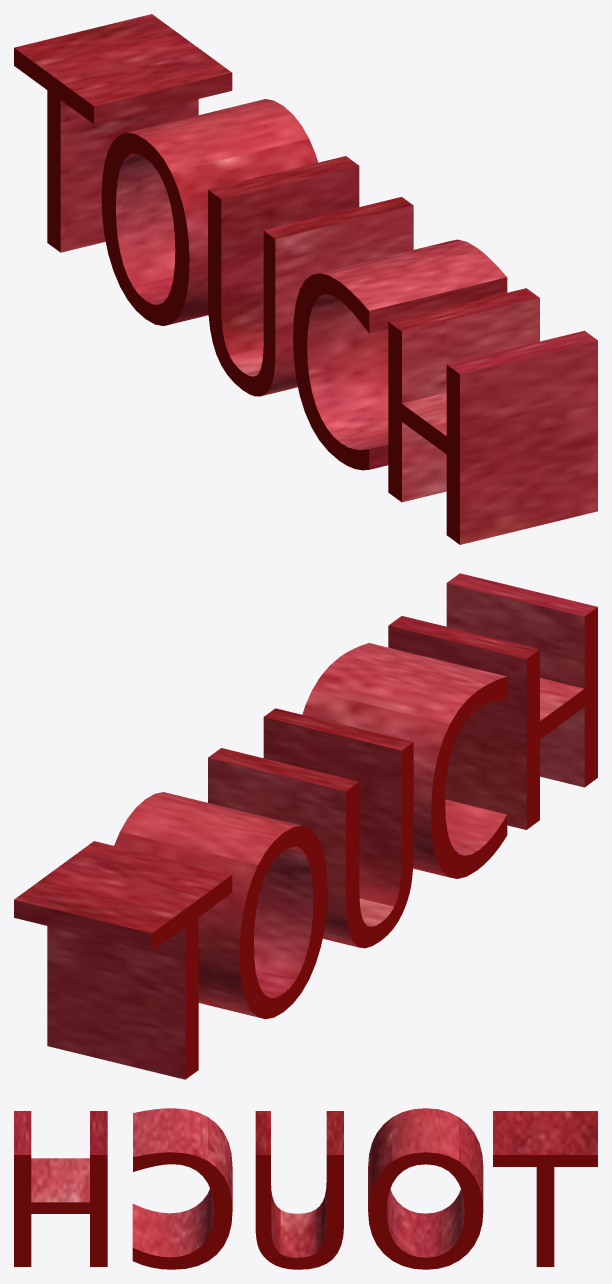
3 renders of one model, top to bottom at view 1: azimuth 30°, elevation 25°; view 2: azimuth 150°, elevation 25°; view 3: azimuth 270°, elevation 25°, orthographic. The views are drawn at different scales.
Visible parts, largest first — view 1: td:typeMesh1polySurface6; view 2: td:typeMesh1polySurface6; view 3: td:typeMesh1polySurface6.
Part boxes in pixels (x1,y1,x2,y2): td:typeMesh1polySurface6: (14, 14, 597, 544); td:typeMesh1polySurface6: (14, 573, 597, 1079); td:typeMesh1polySurface6: (14, 1108, 597, 1269).
Size of the model in its own units: 2.73 by 3.39 by 15.29.
3 materials, 3 textured.
